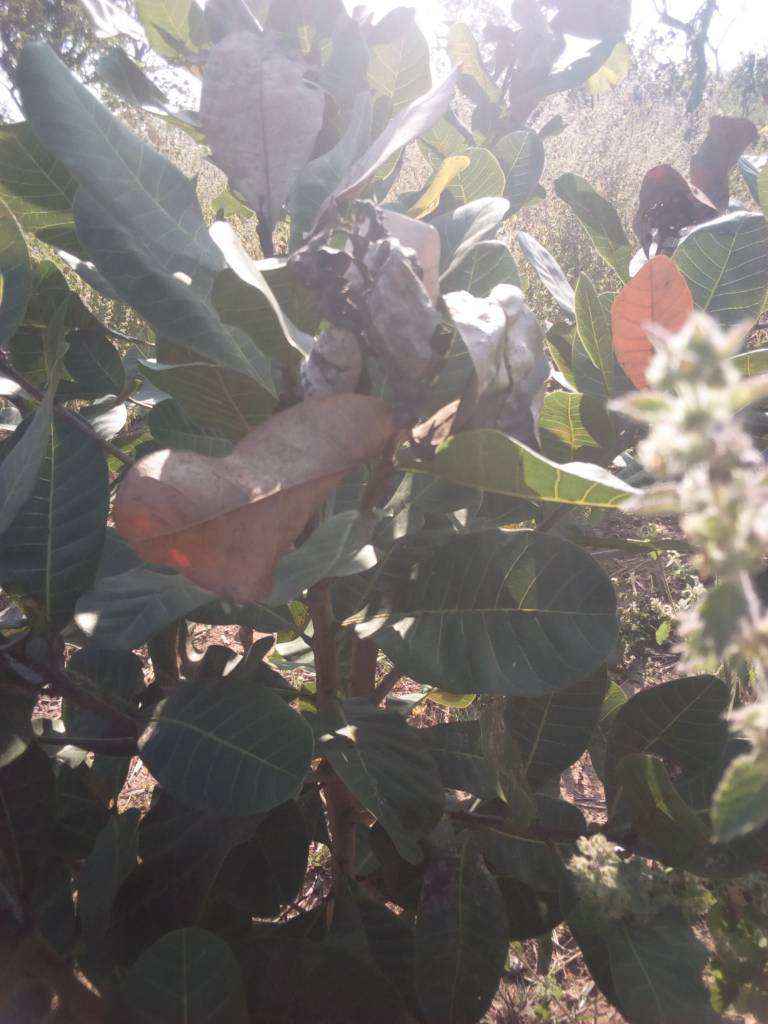Dessèchement des bourgeons: (338, 196, 454, 369)
